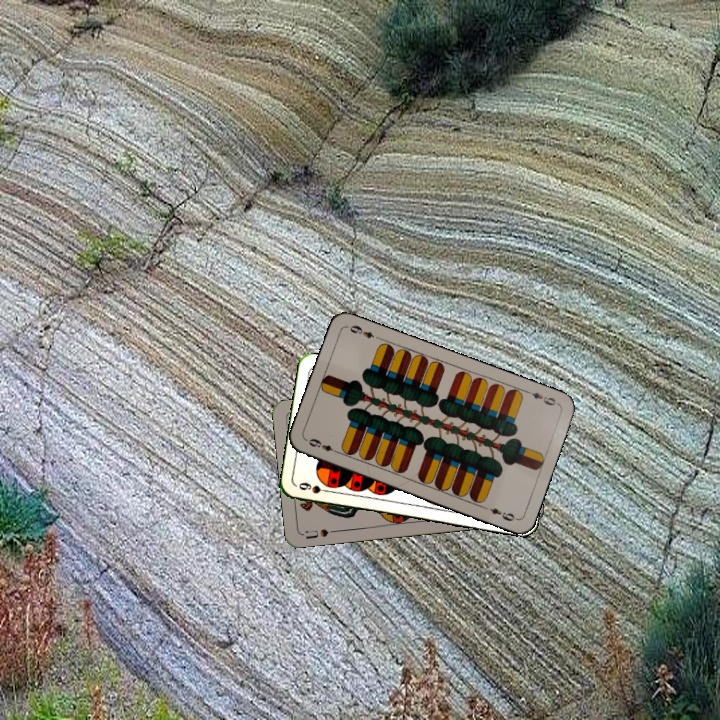E9: (303, 434, 342, 456), (522, 387, 561, 408)
S9: (295, 478, 335, 496)
SU: (302, 525, 340, 542)
